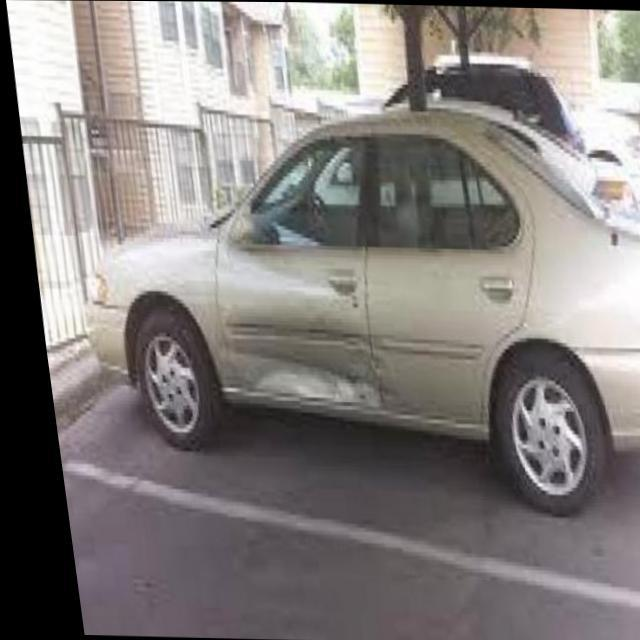dent: (205, 317, 384, 414)
